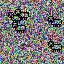sheep: (48, 15, 62, 27), (48, 40, 62, 52), (15, 9, 29, 21), (11, 22, 26, 33), (8, 11, 22, 22)
